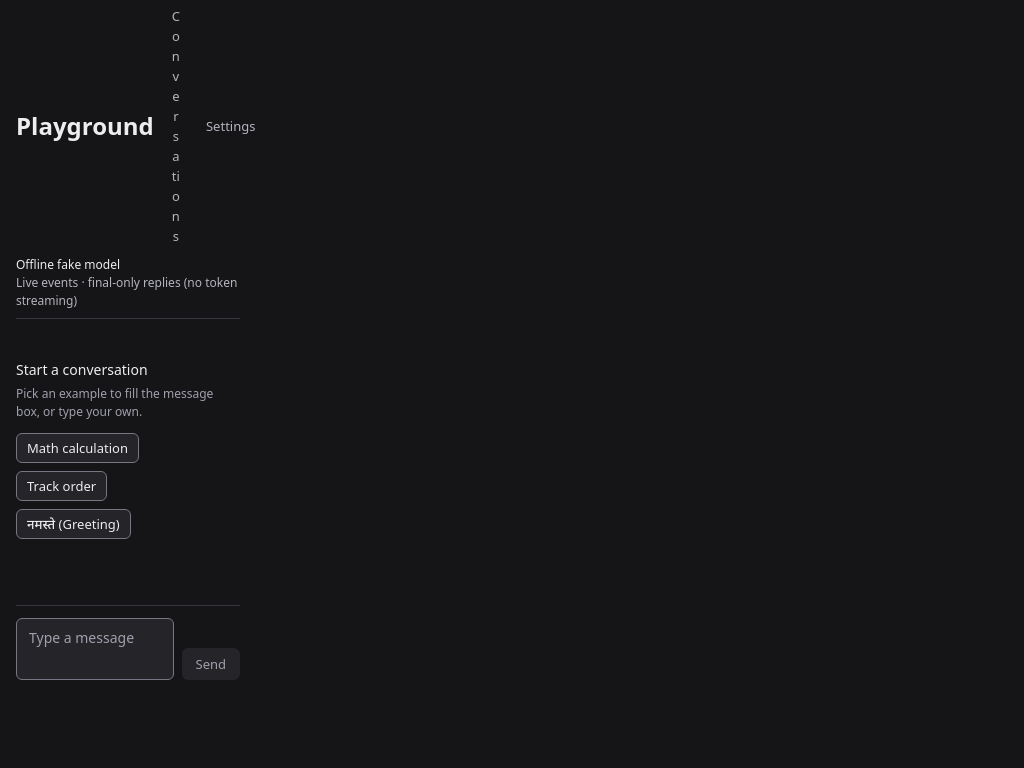
Test: Playground on phones › keeps the strip compact: agent, model and reply language move into Settings
This screenshot has width=1024, height=768.
Expected: the element with test id "model-badge" reads "Offline fake model", top-left (16, 256), bottom-right (120, 273)
Click the button "Conversations": (176, 126) top-left (158, 0), bottom-right (194, 252)
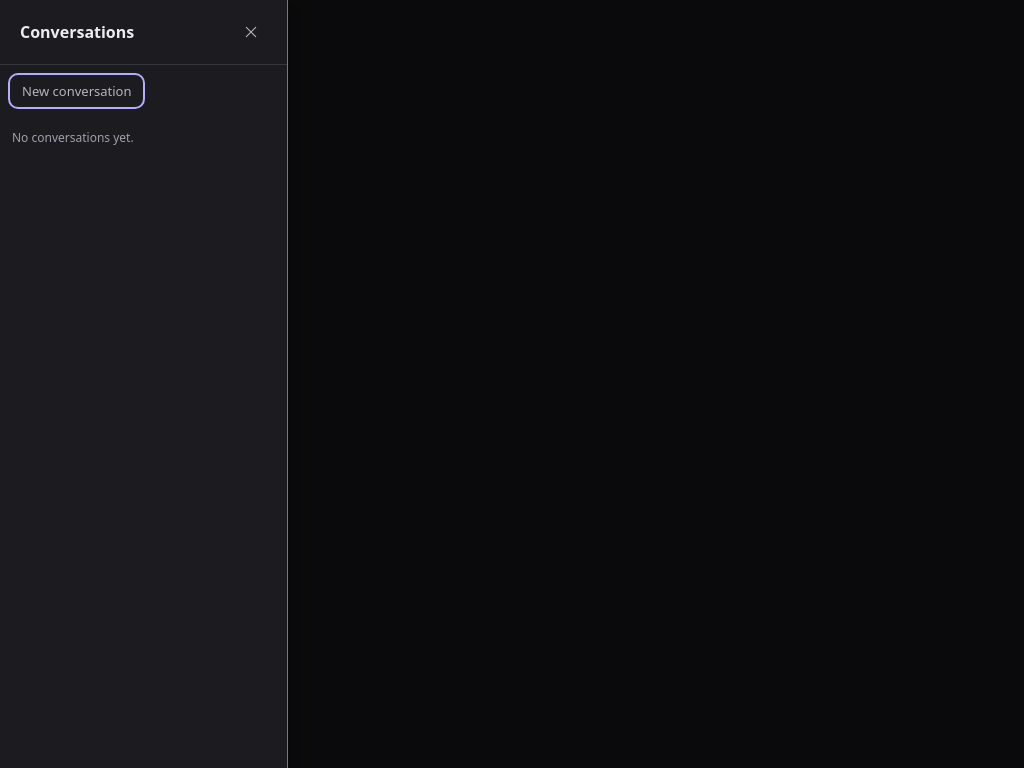
Result: the number of headings "Conversations" is 1 at top-left (20, 20), bottom-right (134, 44)
Result: the button with test id "new-chat-button" is shown at top-left (12, 77), bottom-right (142, 105)
